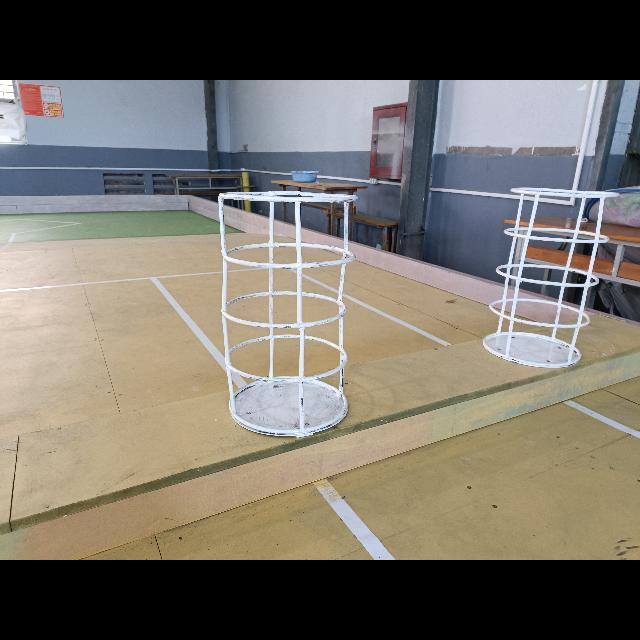S: (218, 190, 358, 439), (483, 187, 618, 369)
